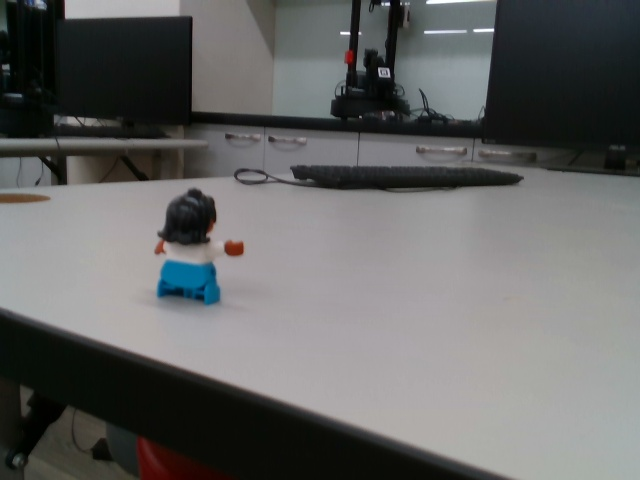people: (151, 187, 248, 308)
